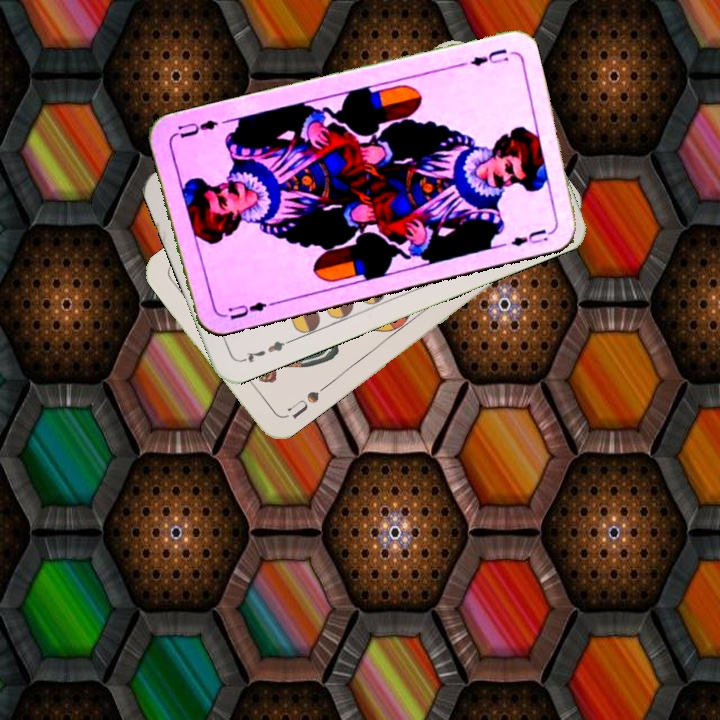E7: (236, 336, 293, 366)
EU: (454, 44, 511, 70), (224, 297, 269, 322)
SU: (283, 386, 322, 422)
